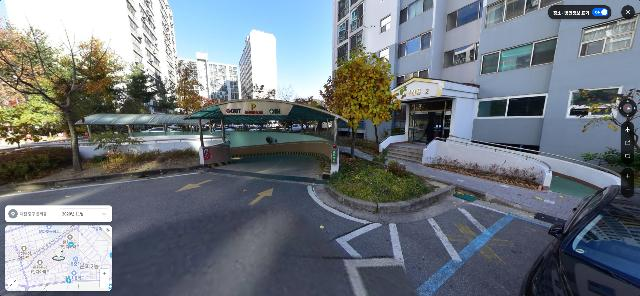other: (1, 23, 127, 171), (320, 46, 404, 156), (573, 88, 639, 172), (116, 59, 178, 113), (171, 58, 209, 115), (244, 80, 278, 130)
